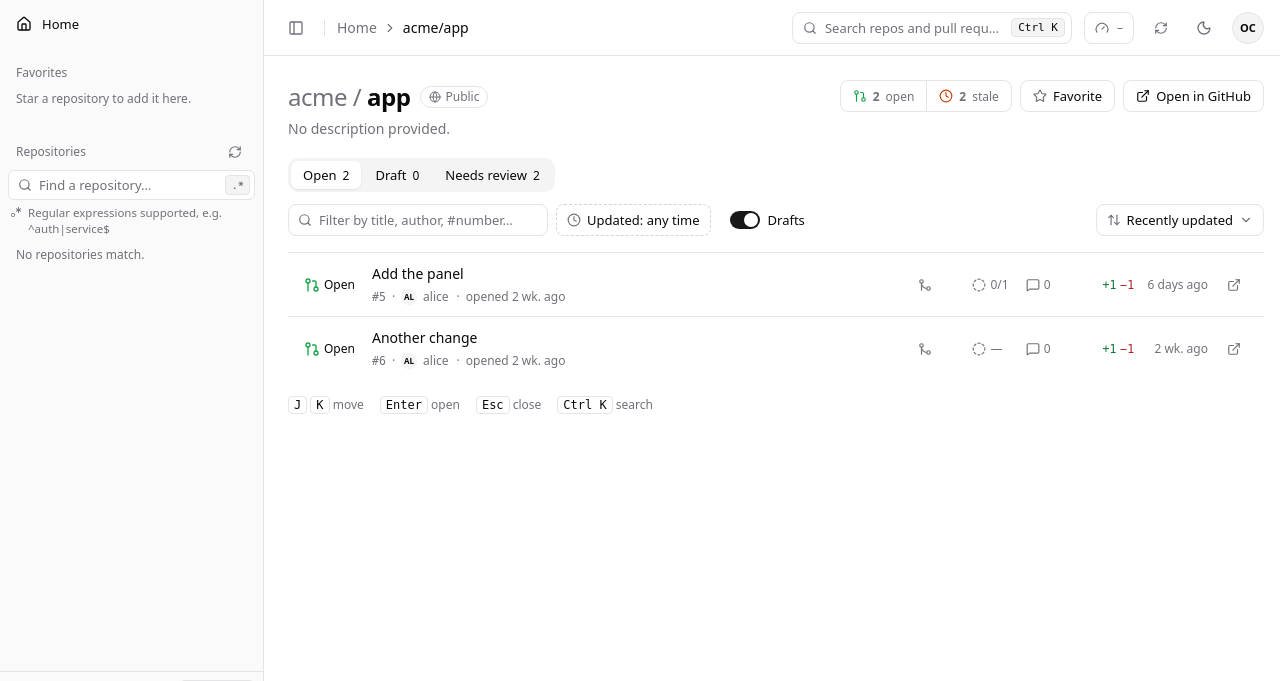
Scenario: opened from a row, an unchanged PR reopens from the cache with 0 requests
Click the link "Add the panel" at x=418, y=274, box top-left (372, 264), bottom-right (464, 283)
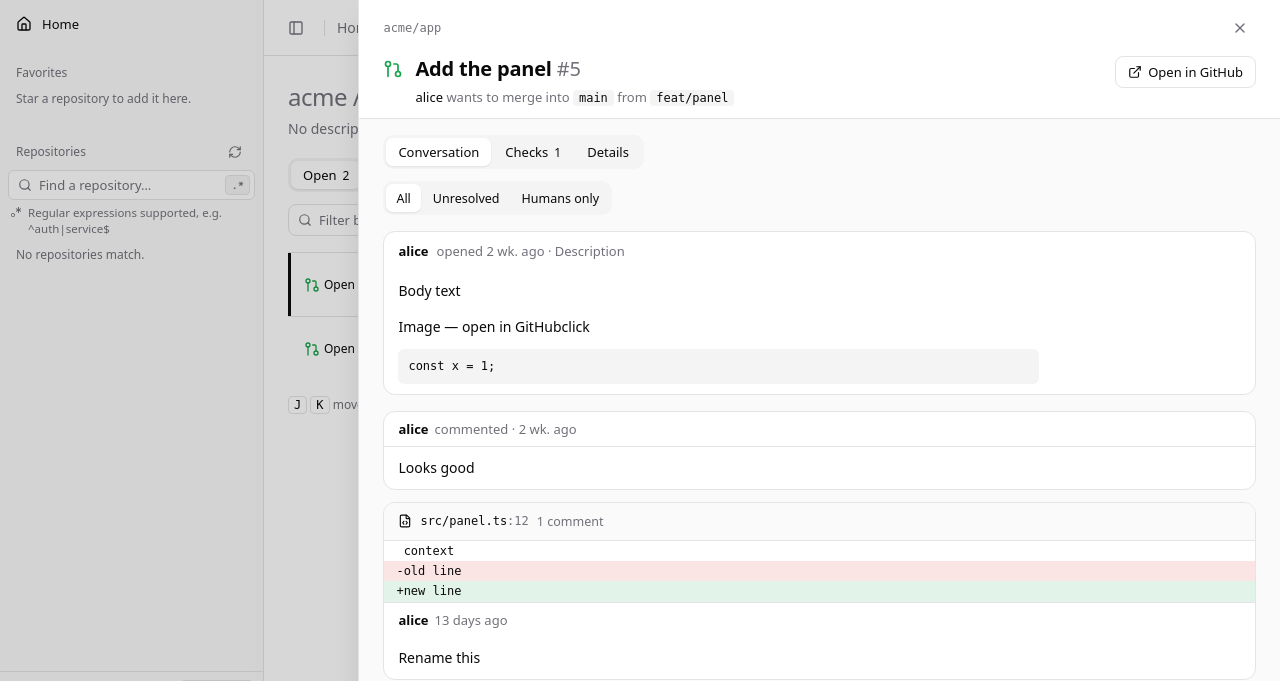
Result: the text "Body text" is shown at top-left (398, 281), bottom-right (460, 300)
Press Escape
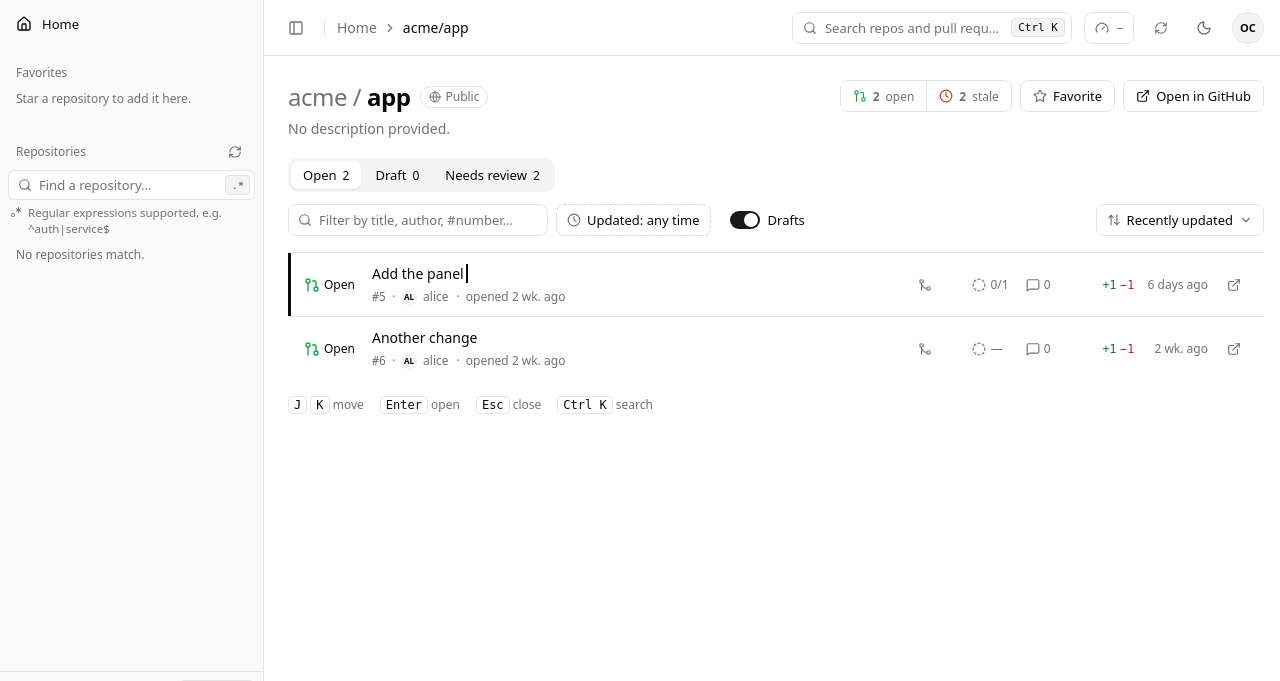
Click the link "Add the panel" at x=418, y=274, box top-left (372, 264), bottom-right (464, 283)
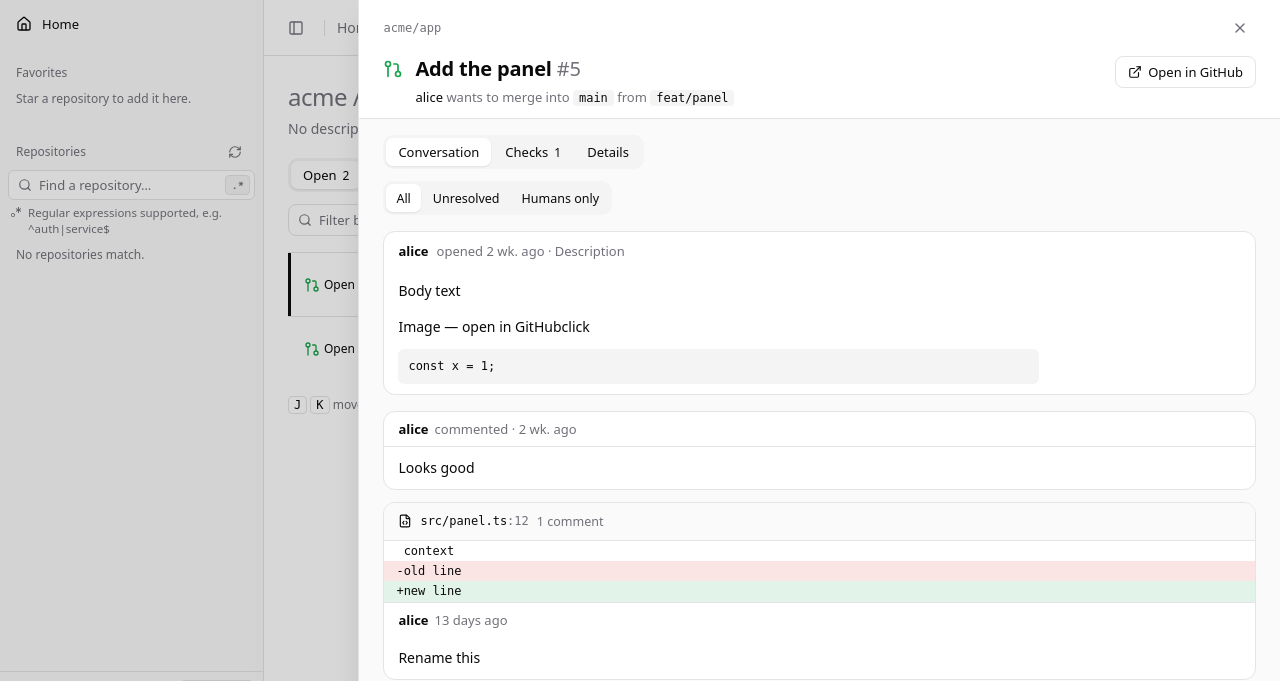
Result: the text "Body text" is shown at top-left (398, 281), bottom-right (460, 300)
